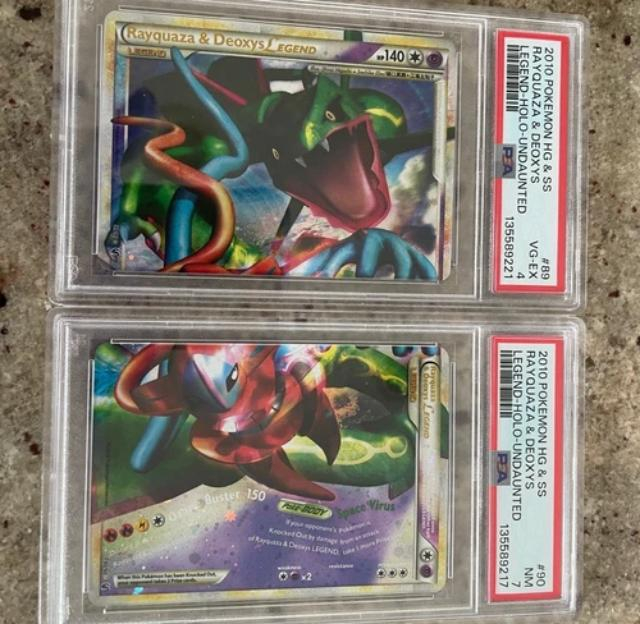Card: (89, 5, 461, 289), (85, 338, 455, 613)
Name: (116, 20, 321, 61), (416, 359, 441, 449)
